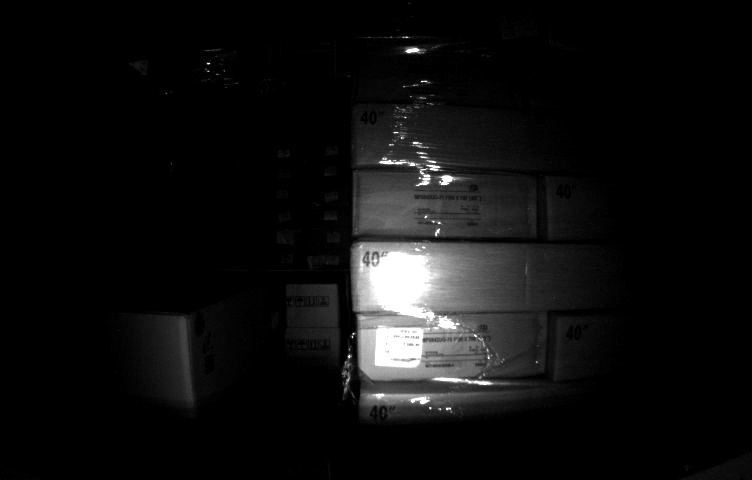True Barcode: (373, 325, 425, 368)
